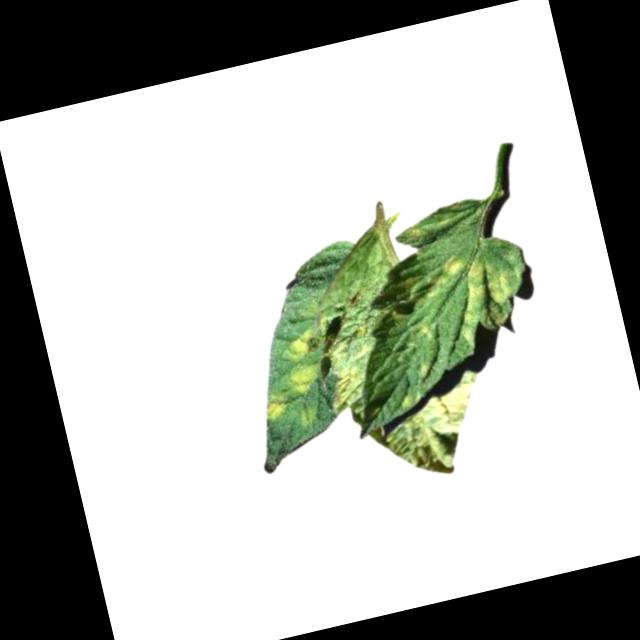Leaf_Mold: (418, 236, 525, 355), (383, 380, 500, 486), (318, 305, 393, 415), (282, 327, 330, 403), (261, 394, 292, 424)
